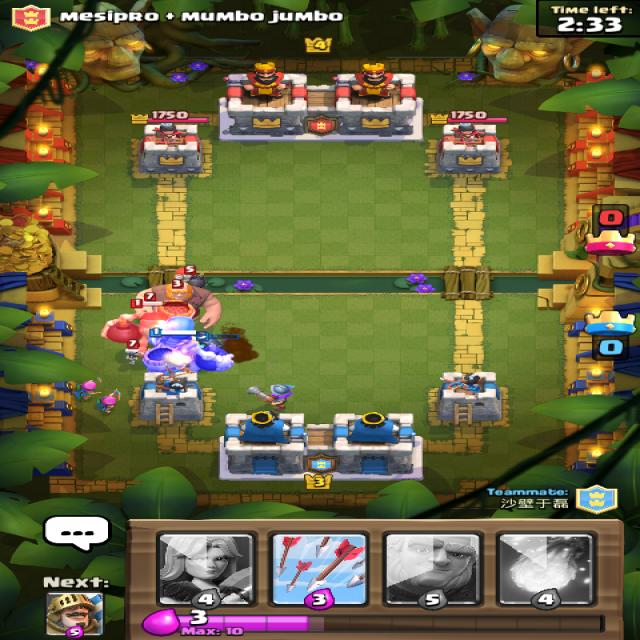Enemy-Bomber: (172, 264, 205, 286)
Enemy-Giant: (134, 279, 222, 328)
Enemy-GiantSkeleton: (97, 298, 195, 342)
Enemy-Skeleton: (121, 338, 144, 365)
Player-Archer: (71, 374, 101, 401), (94, 386, 122, 414)
Player-GiantSkeleton: (139, 327, 233, 373)
Player-Musketeer: (246, 382, 294, 410)
